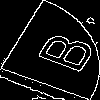B: (25, 25, 98, 75)
